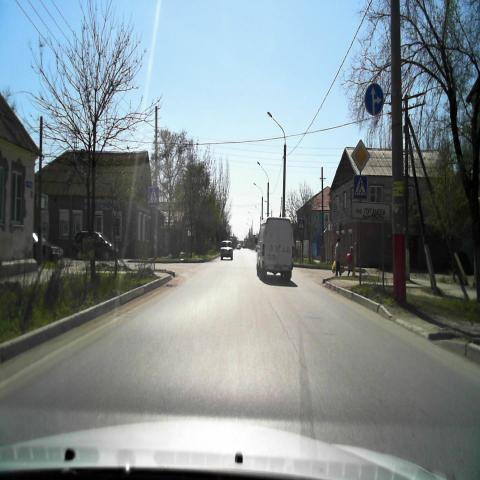2_1: (350, 139, 371, 171)
4_1_4: (364, 82, 384, 118)
5_19_1: (354, 174, 368, 198), (148, 186, 160, 206), (184, 214, 190, 226)
